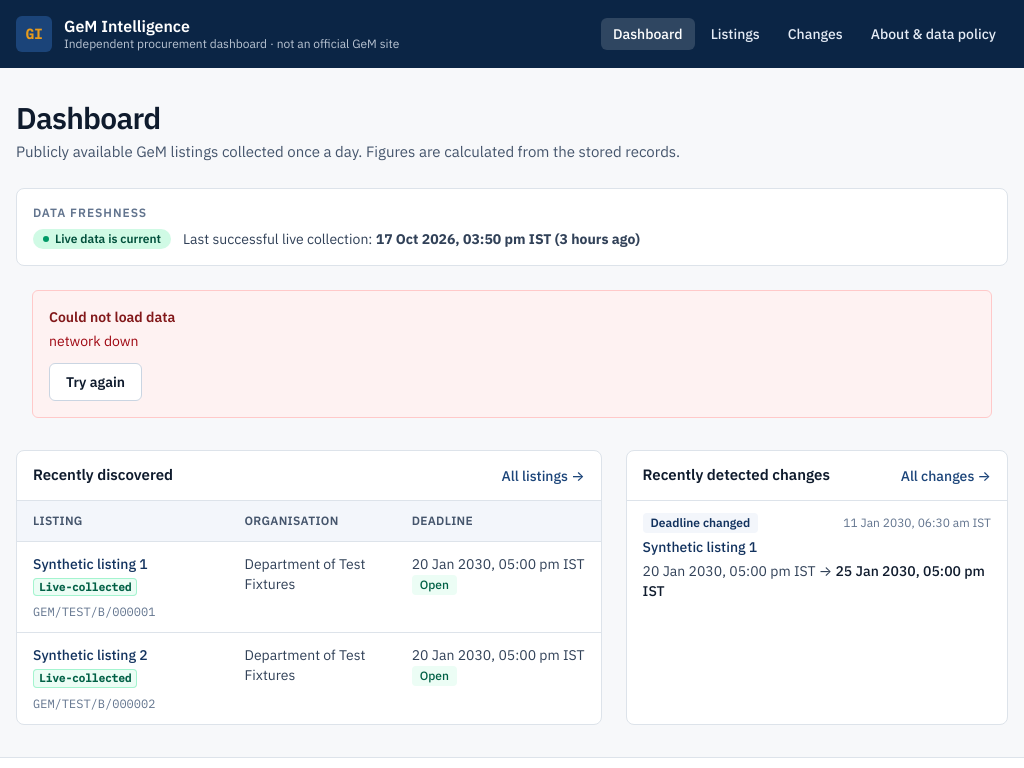
Test: dashboard › renders an error state with retry
Expected: the message shows "network down", x1=49 y1=332 x2=138 y2=350
Step 1. Click the button "Try again" → (96,382), box x1=49 y1=363 x2=142 y2=401
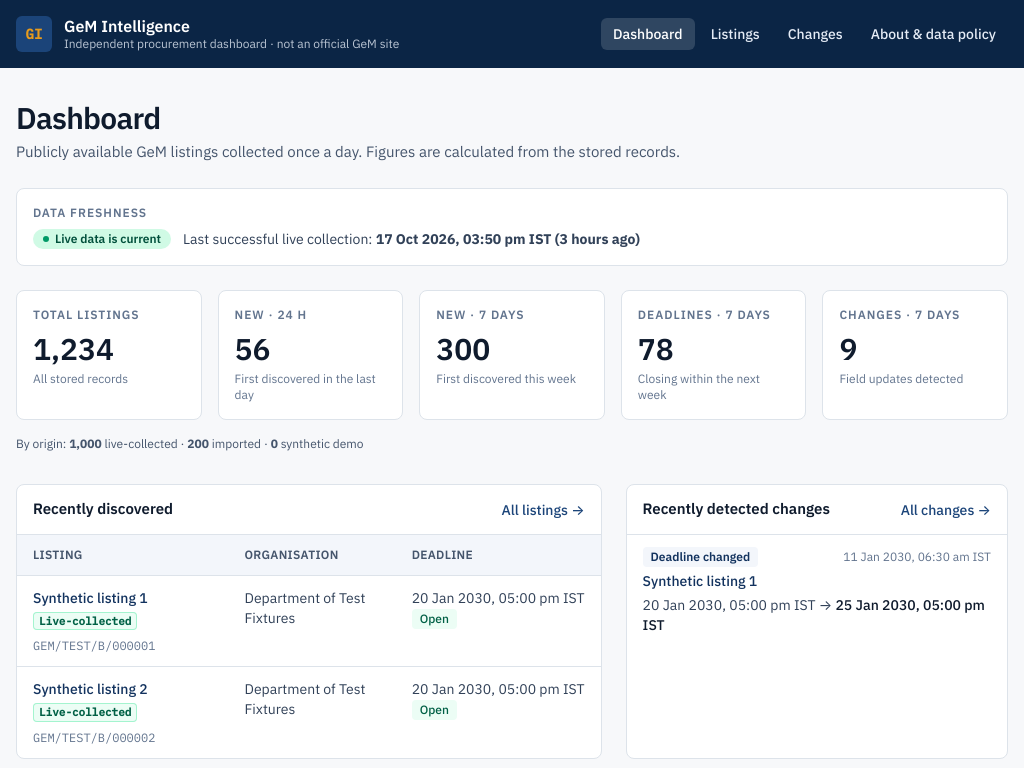
Result: the text "1,234" is shown at x1=33 y1=329 x2=114 y2=368
